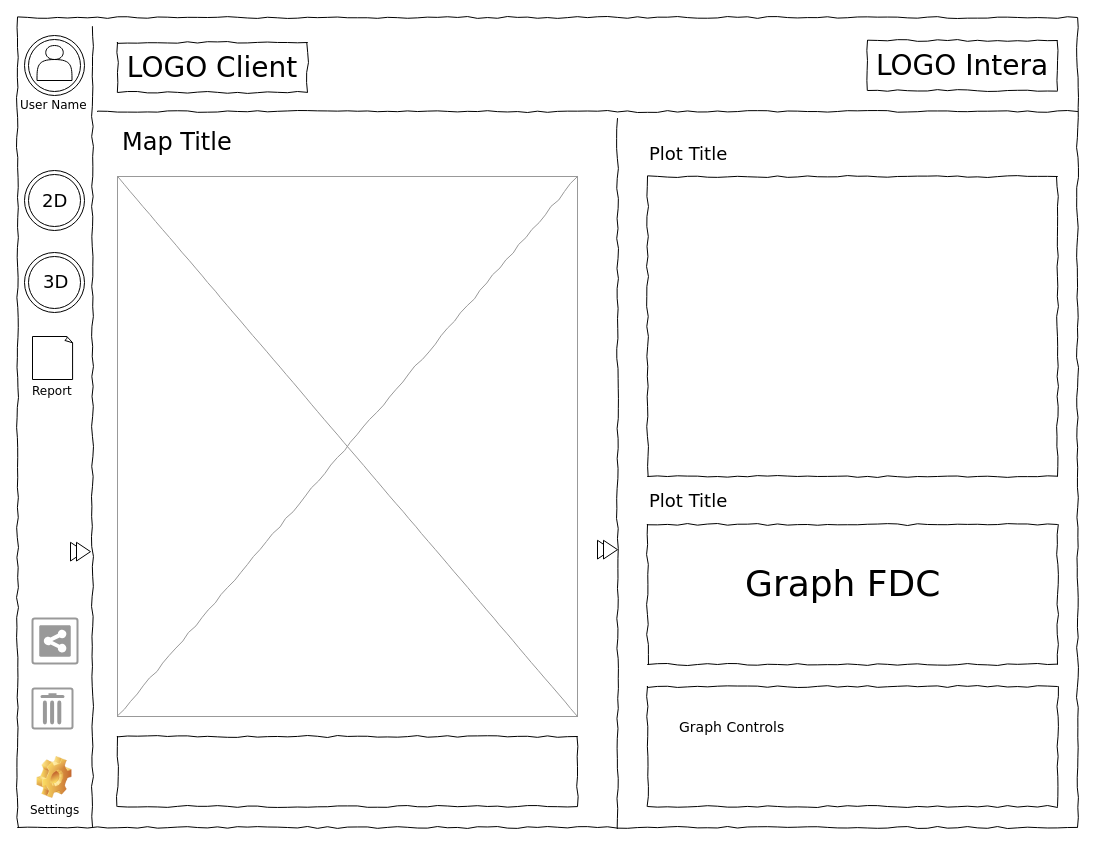
Image size: 1095x848. Some labels were removed from this diagram. The shapes that lost their labels are listed below. From the top down, each one's centre as x and y in pixels, then its label:
At (852,326): "Graph t/s".
At (347,446): "Model Map".
At (347,771): "Map Controls".
